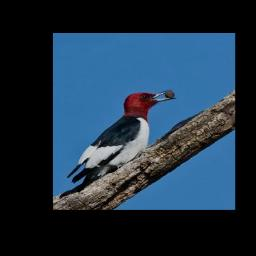Woodpecker: (66, 87, 178, 186)
